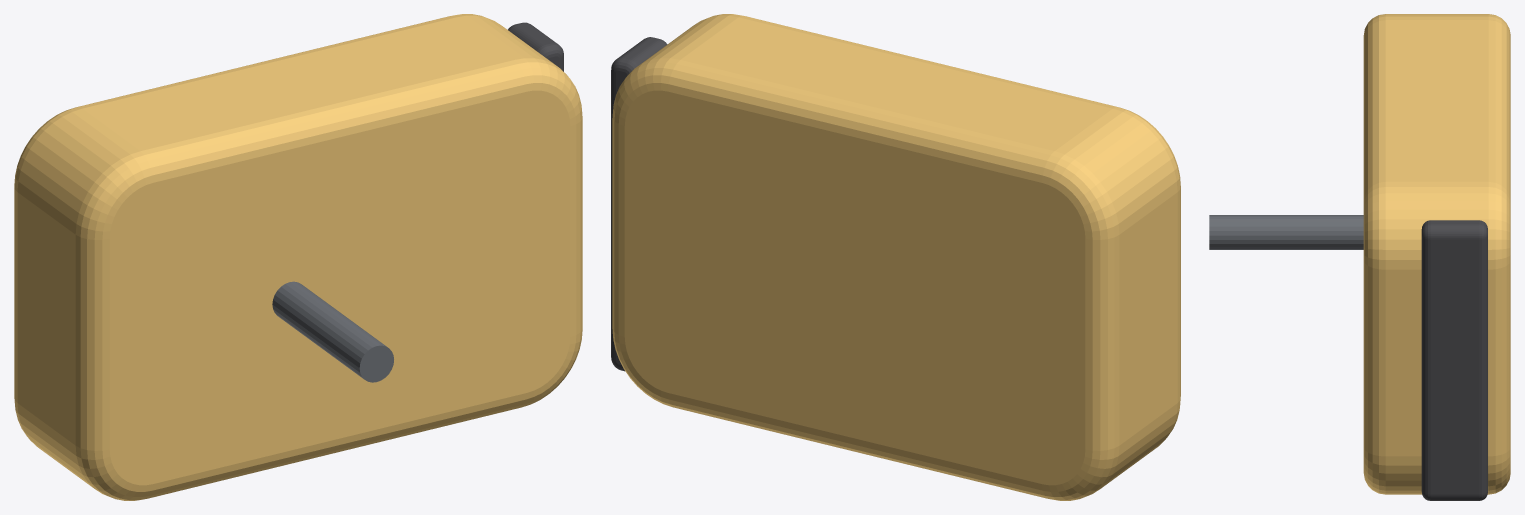
3 views of the same model, side by side, from view 1: azimuth 30°, elevation 25°; view 2: azimuth 150°, elevation 25°; view 3: azimuth 270°, elevation 25° (orthographic). The views are drawn at different scales.
Parts seen in each view (by area): view 1: part_0, part_2, part_1; view 2: part_0, part_1; view 3: part_0, part_1, part_2.
Boxes of the visible parts, x1=… form: part_0: x1=14, y1=14, x2=582, y2=500; part_2: x1=272, y1=281, x2=393, y2=382; part_1: x1=508, y1=22, x2=563, y2=71; part_0: x1=612, y1=14, x2=1180, y2=500; part_1: x1=611, y1=37, x2=667, y2=371; part_0: x1=1363, y1=14, x2=1510, y2=494; part_1: x1=1421, y1=220, x2=1487, y2=500; part_2: x1=1209, y1=215, x2=1363, y2=249.
Bounding box in the file's own units: 0.356 × 0.23 × 0.205.
